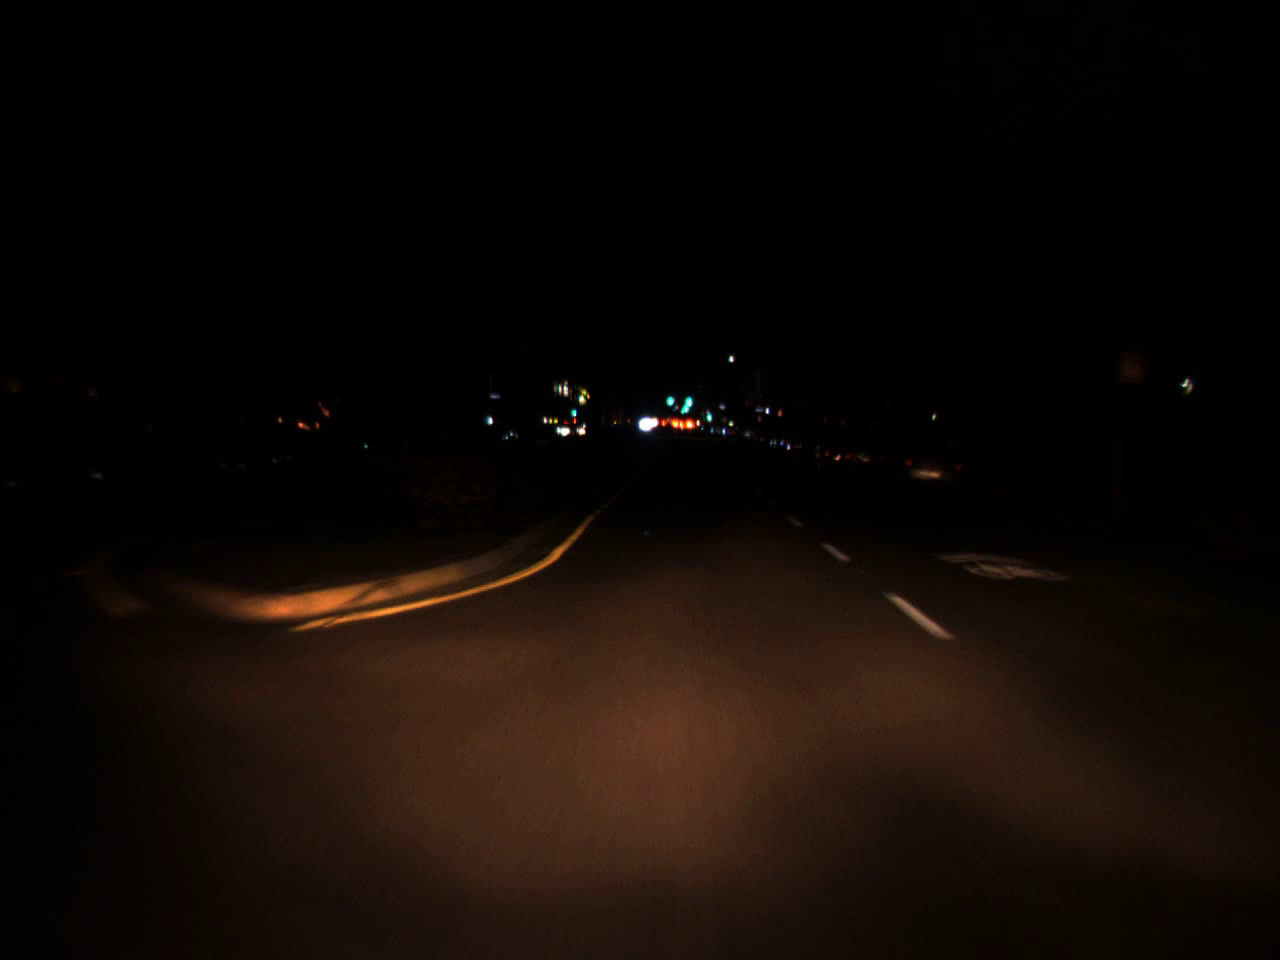go: (680, 386, 694, 410), (702, 402, 714, 423), (664, 387, 674, 408), (570, 401, 577, 419)
